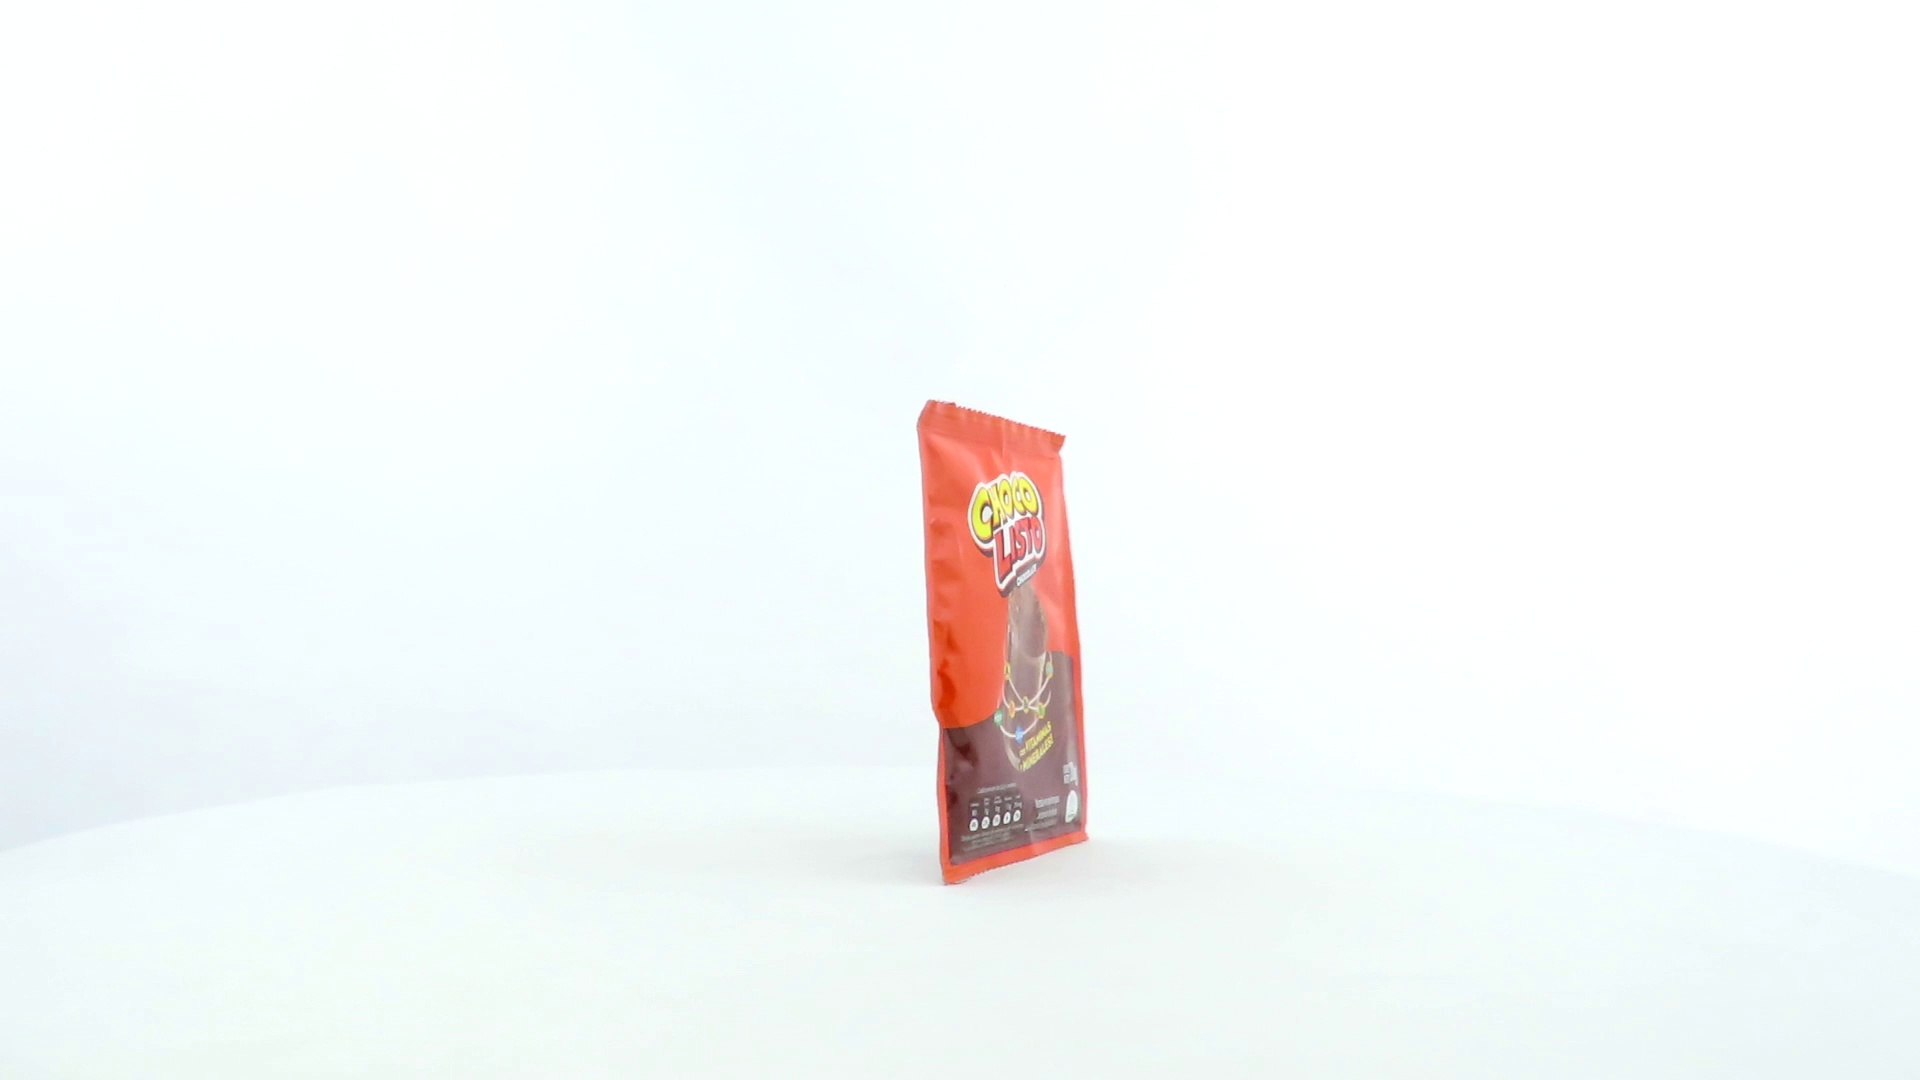COL0170103SOB02000: (911, 394, 1095, 894)
